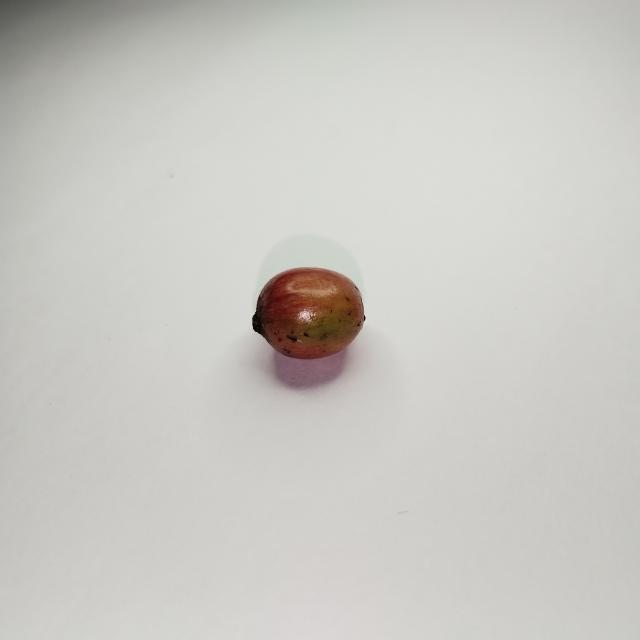Sano: (252, 268, 365, 359)
